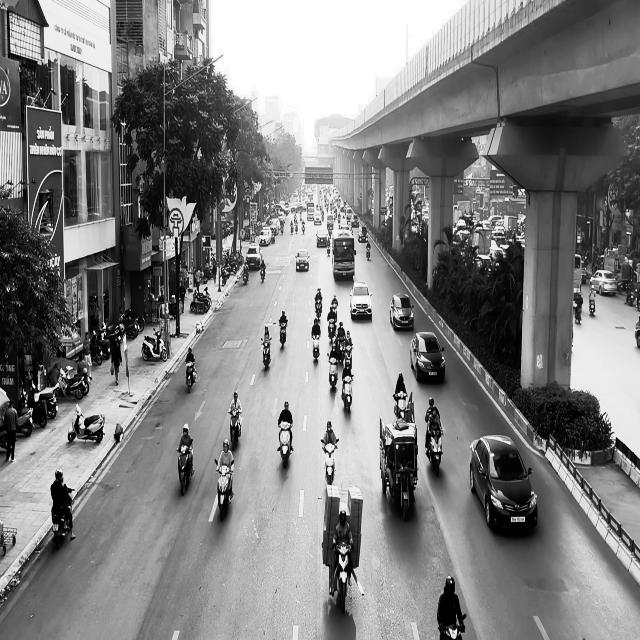car: (469, 434, 538, 532), (410, 330, 445, 382), (389, 293, 414, 330), (349, 281, 372, 319), (296, 249, 310, 271)
motorbike: (329, 542, 352, 614), (67, 403, 105, 443), (51, 488, 75, 549), (214, 457, 234, 521), (425, 417, 443, 476), (177, 440, 194, 495), (320, 438, 339, 485), (141, 328, 167, 362), (438, 613, 466, 639), (278, 421, 292, 468), (228, 408, 242, 449), (341, 375, 353, 413), (260, 336, 272, 371), (327, 352, 338, 390), (185, 362, 197, 394), (278, 320, 287, 348), (311, 334, 320, 361), (574, 294, 582, 324), (588, 289, 596, 314), (260, 264, 266, 282)
